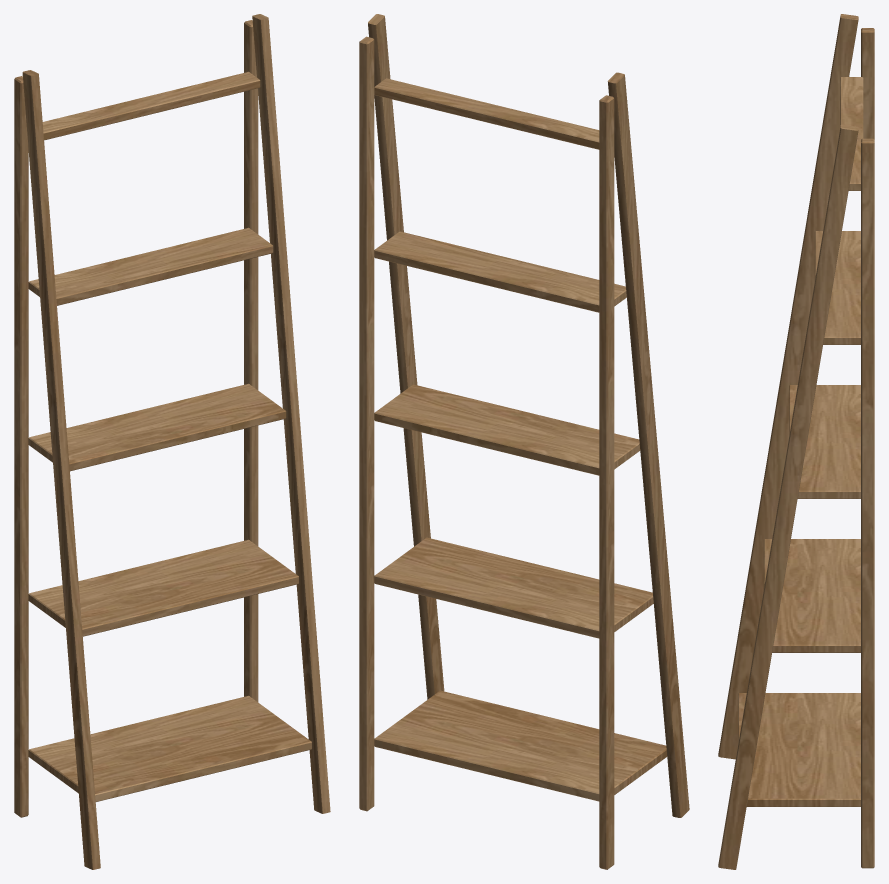
Rendered from estanteria_escalera_60.glb.
3 renders of one model, left to right at view 1: azimuth 30°, elevation 25°; view 2: azimuth 150°, elevation 25°; view 3: azimuth 270°, elevation 25°, orthographic. The views are drawn at different scales.
Visible parts, largest first — view 1: estanteria_escalera_60; view 2: estanteria_escalera_60; view 3: estanteria_escalera_60.
Boxes of the visible parts, bbox=[...] form: estanteria_escalera_60: bbox=[14, 14, 330, 869]; estanteria_escalera_60: bbox=[359, 14, 689, 869]; estanteria_escalera_60: bbox=[718, 14, 874, 869].
Size of the model in its own units: 0.5999 by 1.81 by 0.3448.
1 material, 1 textured.
